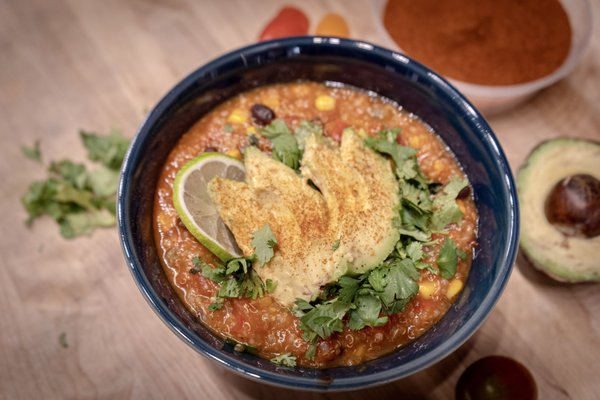sushi: (124, 34, 519, 378), (380, 0, 594, 116)
taco: (172, 150, 248, 261)
